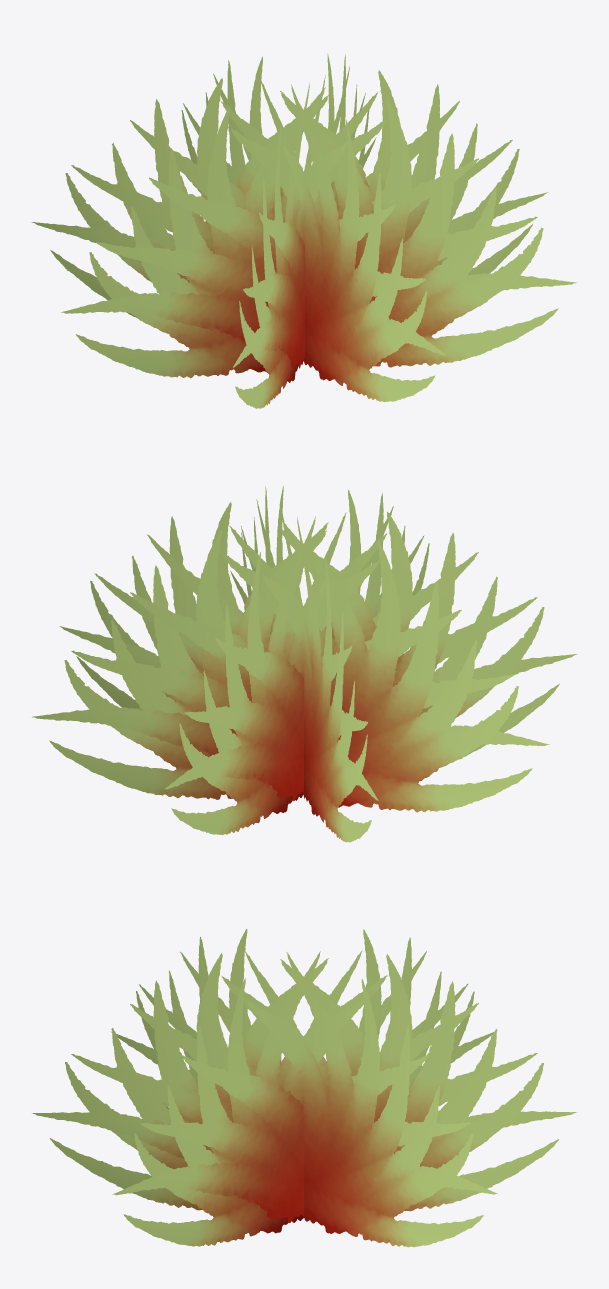
The model's file is painted-weed-074.glb.
The picture shows the model from 3 angles, top to bottom: view 1: azimuth 30°, elevation 25°; view 2: azimuth 150°, elevation 25°; view 3: azimuth 270°, elevation 25°; orthographic projection. The views are drawn at different scales.
Bounding box in the file's own units: 10.43 × 5.93 × 10.43.
Materials: 1 (1 with a texture image).
